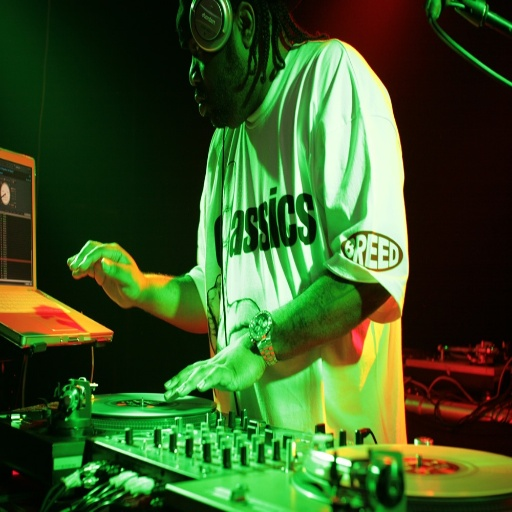hand: (62, 238, 171, 312), (162, 333, 267, 405)
